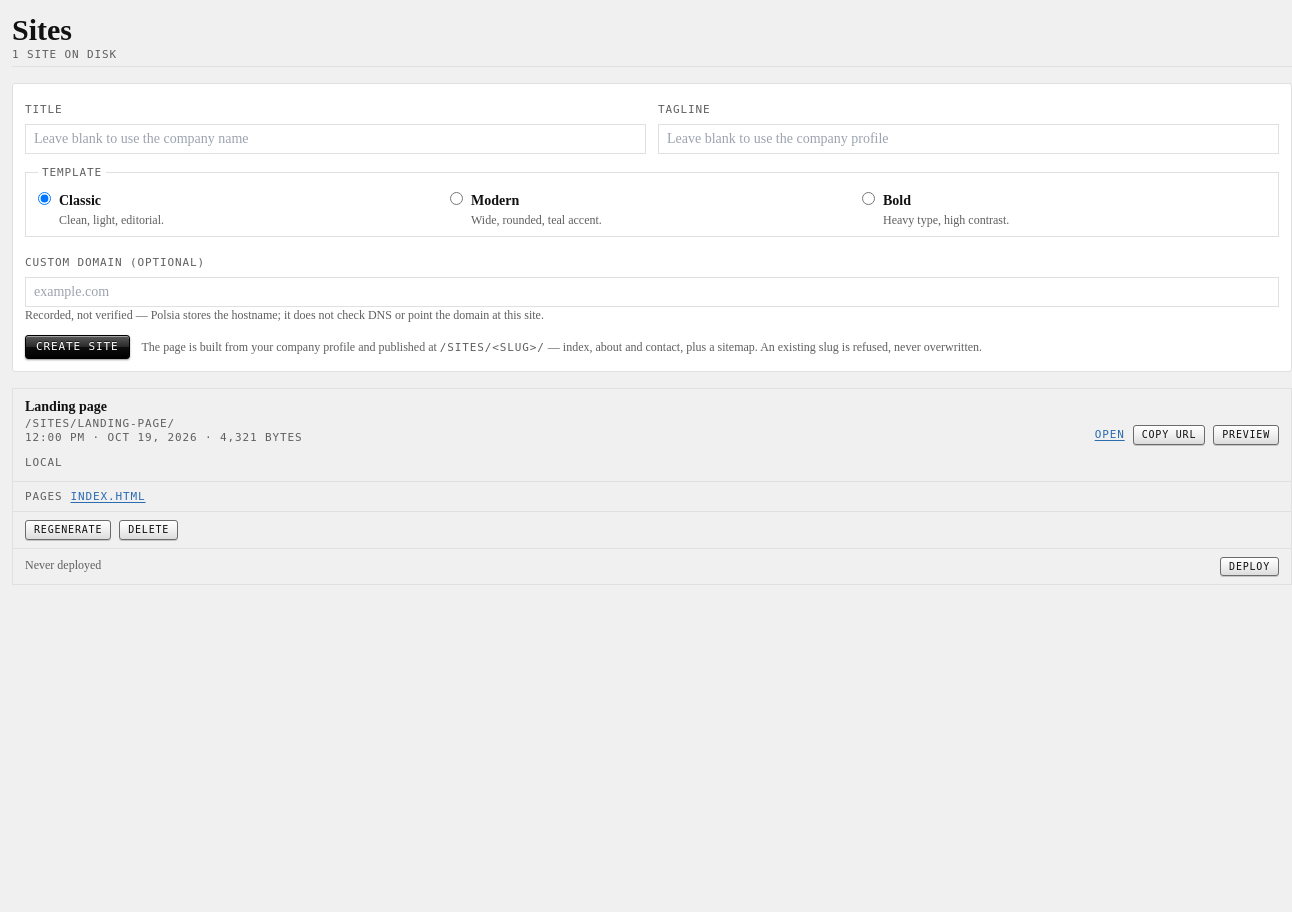
Test: /sites — deploy refusals › shows the server's named refusal and keeps the row's previous badge
This screenshot has width=1292, height=912.
Expected: the list with test id "sites-list" is shown, [12,388,1291,585]
Expected: the text with test id "site-deploy-badge-landing-page" does not show "reading deploy state", [25,557,101,573]
Click the button with test id "site-deploy-button-landing-page" at x=1250, y=567, box [1220,557,1279,576]
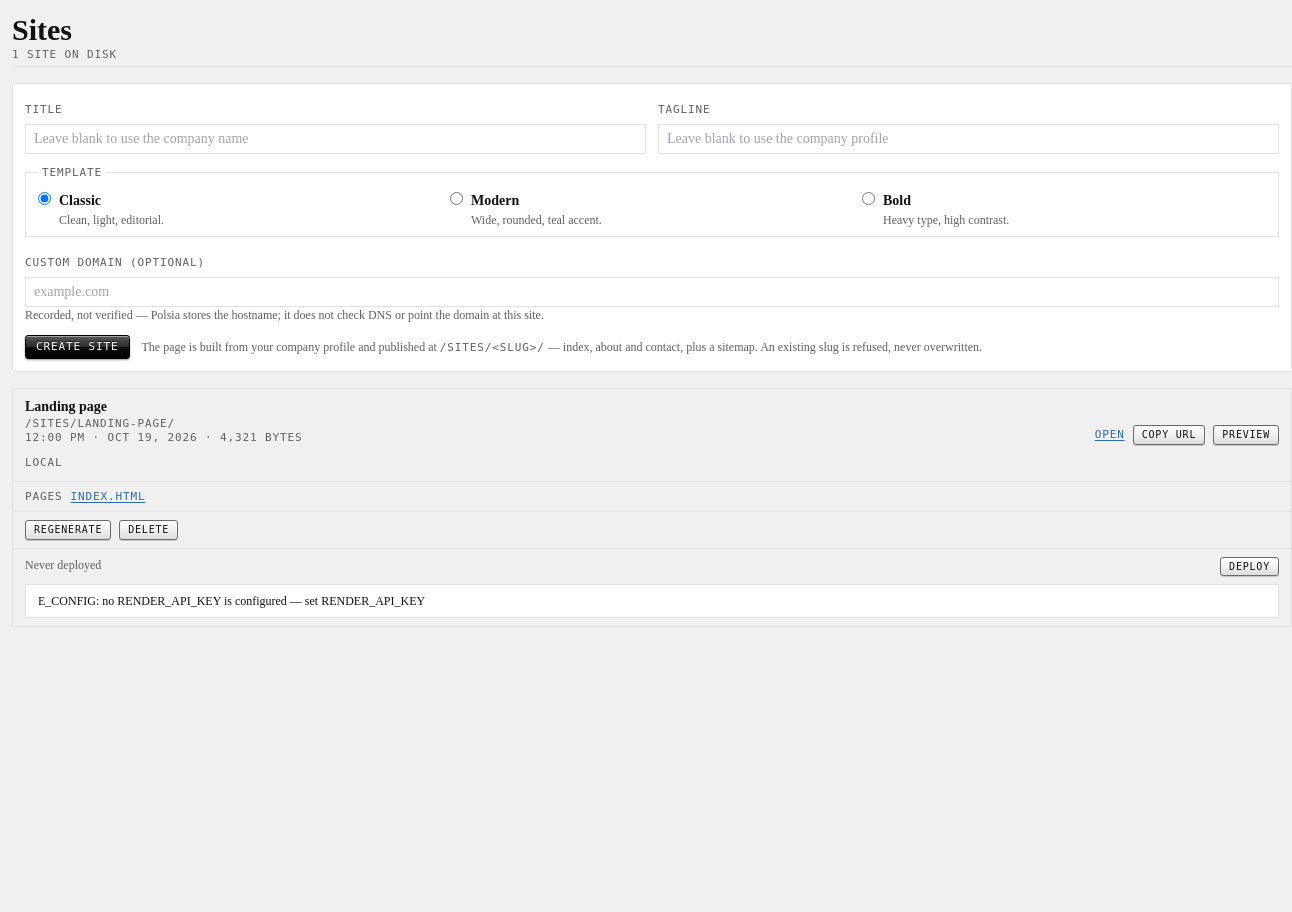
Expected: the text with test id "site-deploy-badge-landing-page" reads "Never deployed", [25,558,101,572]
Expected: the message with test id "site-deploy-error-landing-page" shows "E_CONFIG", [38,594,425,608]
Expected: the message with test id "site-deploy-error-landing-page" shows "set RENDER_API_KEY", [38,594,425,608]
